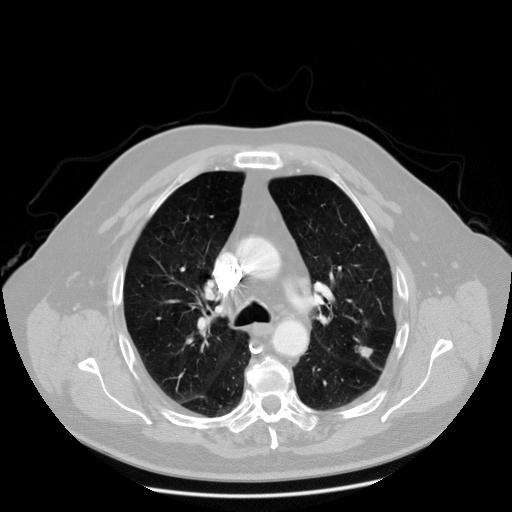nodule: (355, 342, 374, 361)
